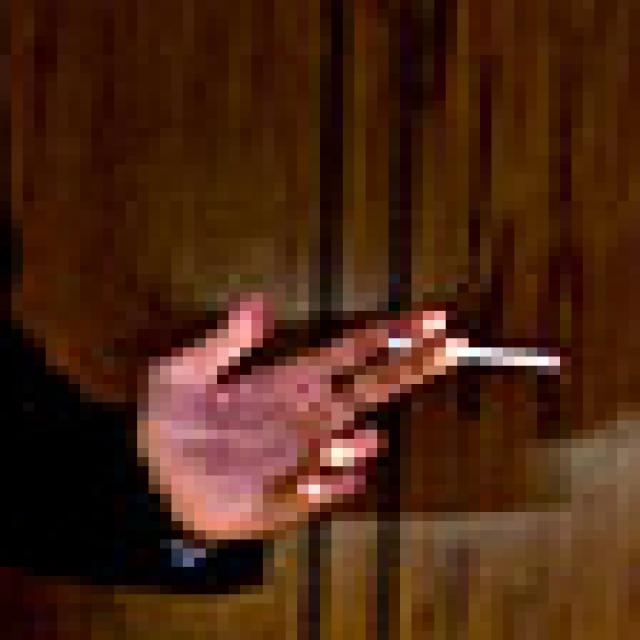smoking: (383, 336, 561, 372)
